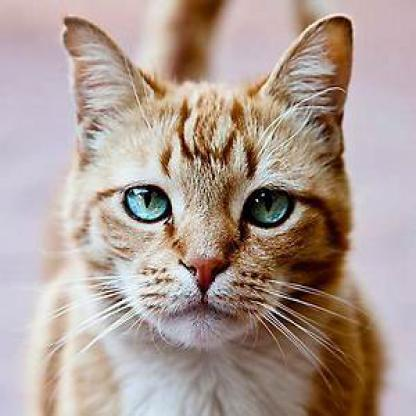cat: (61, 18, 383, 414)
